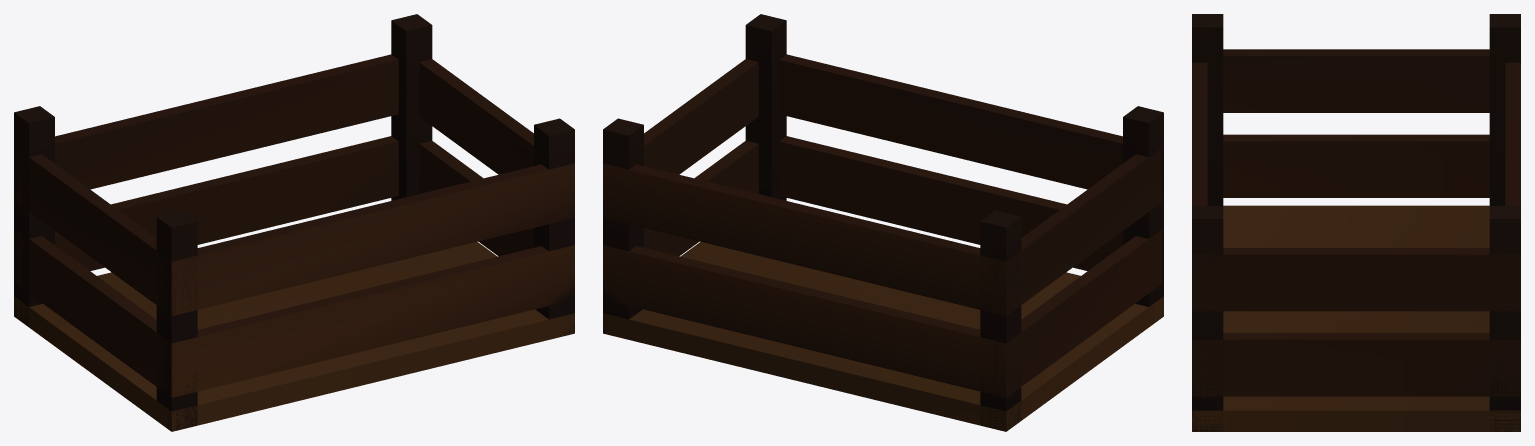
Rendered from fm_crate_lod1.glb.
3 renders of one model, left to right at view 1: azimuth 30°, elevation 25°; view 2: azimuth 150°, elevation 25°; view 3: azimuth 270°, elevation 25°, orthographic. The views are drawn at different scales.
Visible parts, largest first — view 1: fm_crate_lod1; view 2: fm_crate_lod1; view 3: fm_crate_lod1.
Boxes of the visible parts, x1,y1,x2,y2 form: fm_crate_lod1: (14,14,574,431); fm_crate_lod1: (603,14,1163,431); fm_crate_lod1: (1192,14,1520,431).
Bounding box in the file's own units: 0.62 × 0.3 × 0.42.
